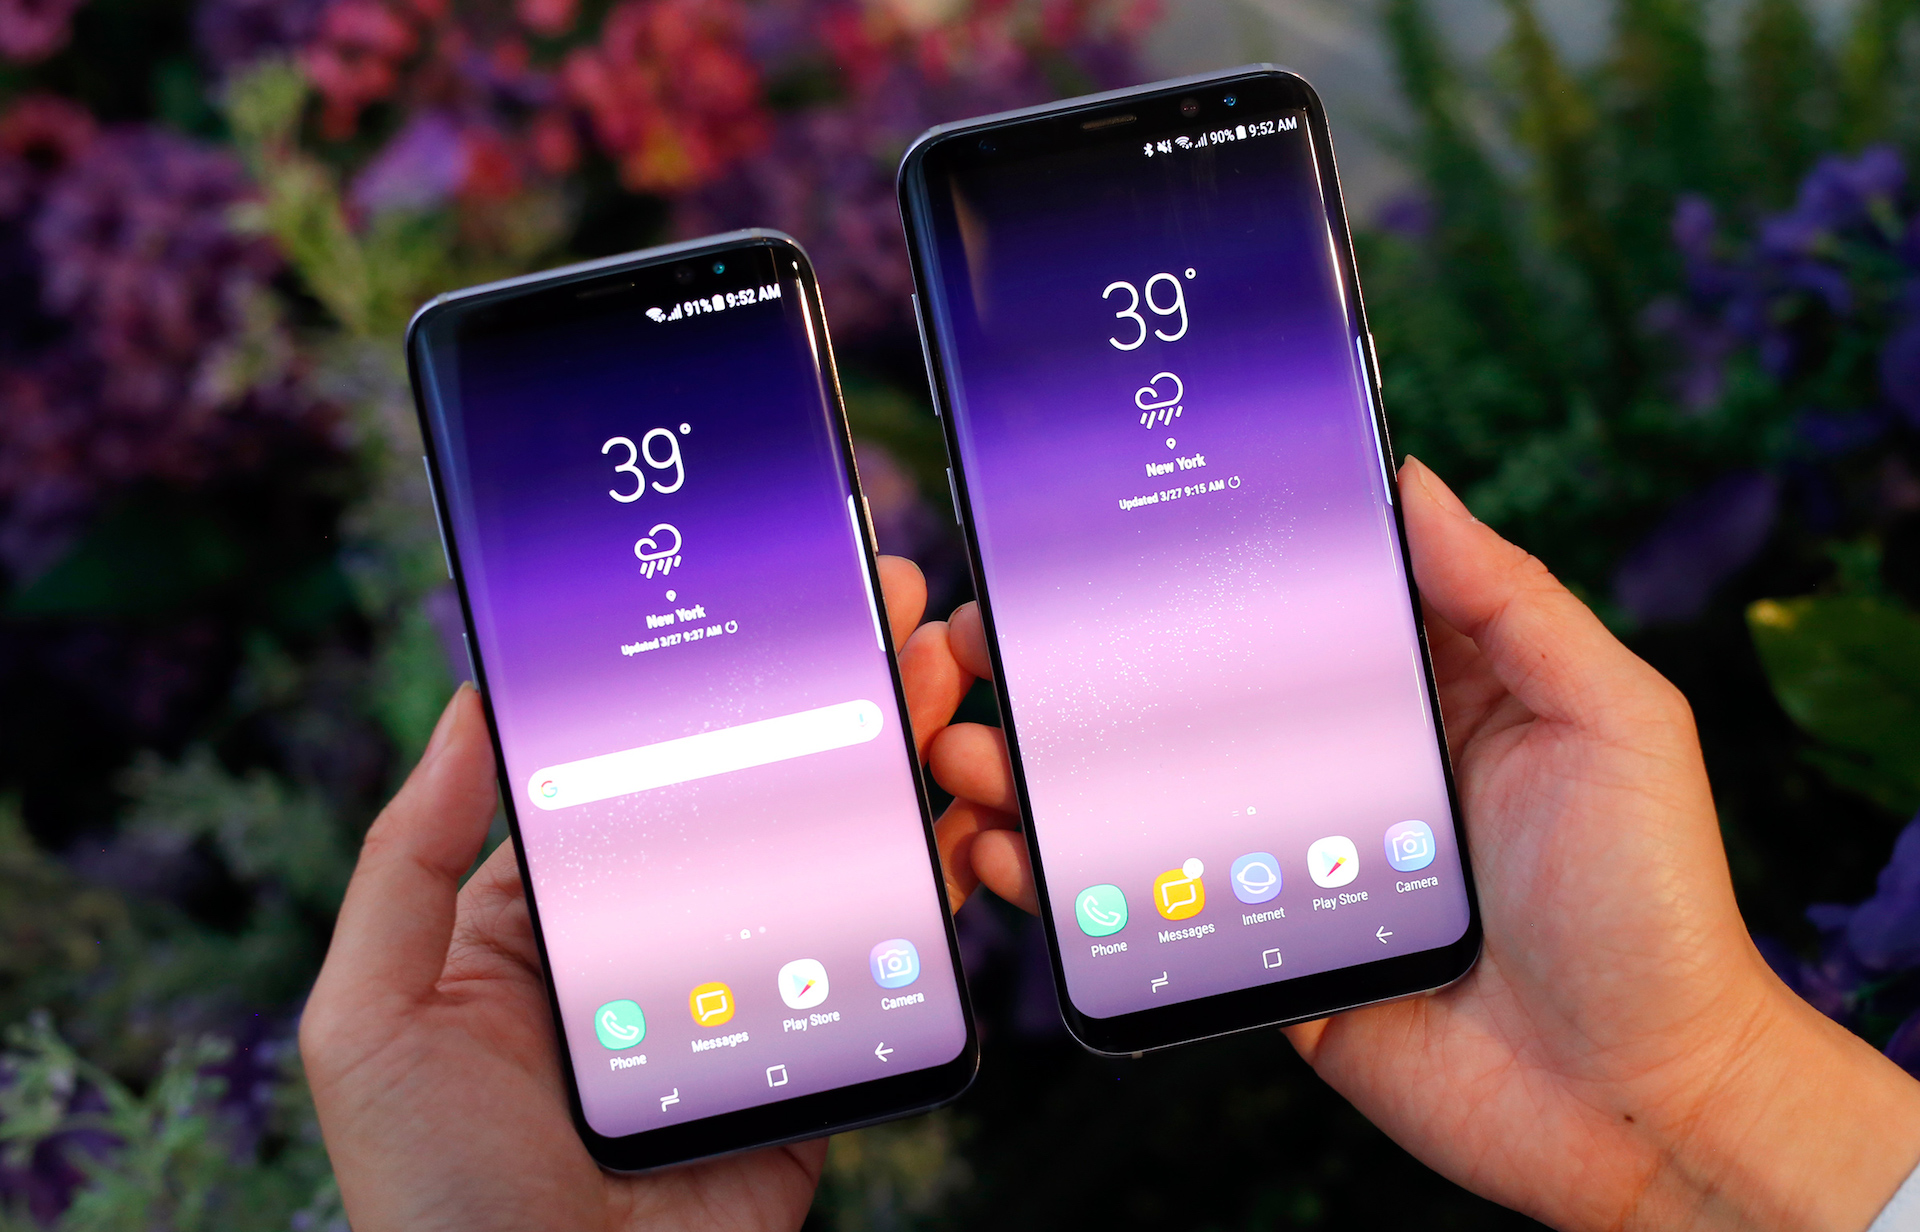smartphone: (891, 59, 1488, 1063), (402, 223, 982, 1186)
